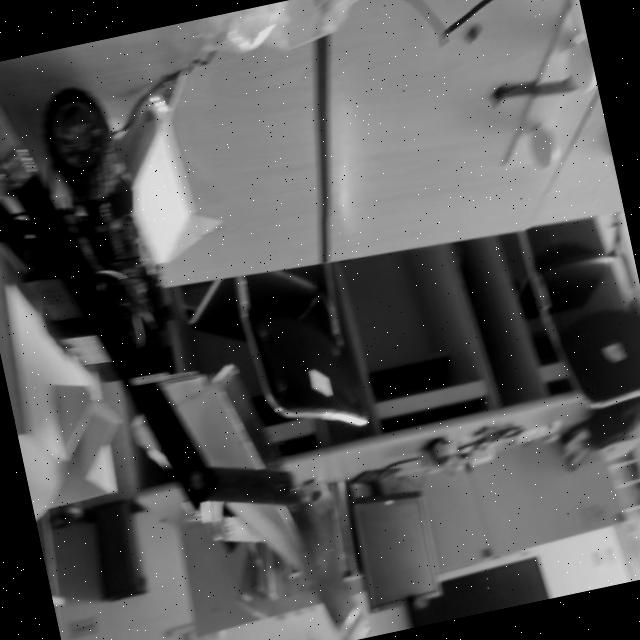ping-pong-ball: (564, 38, 598, 92), (526, 124, 564, 172)
